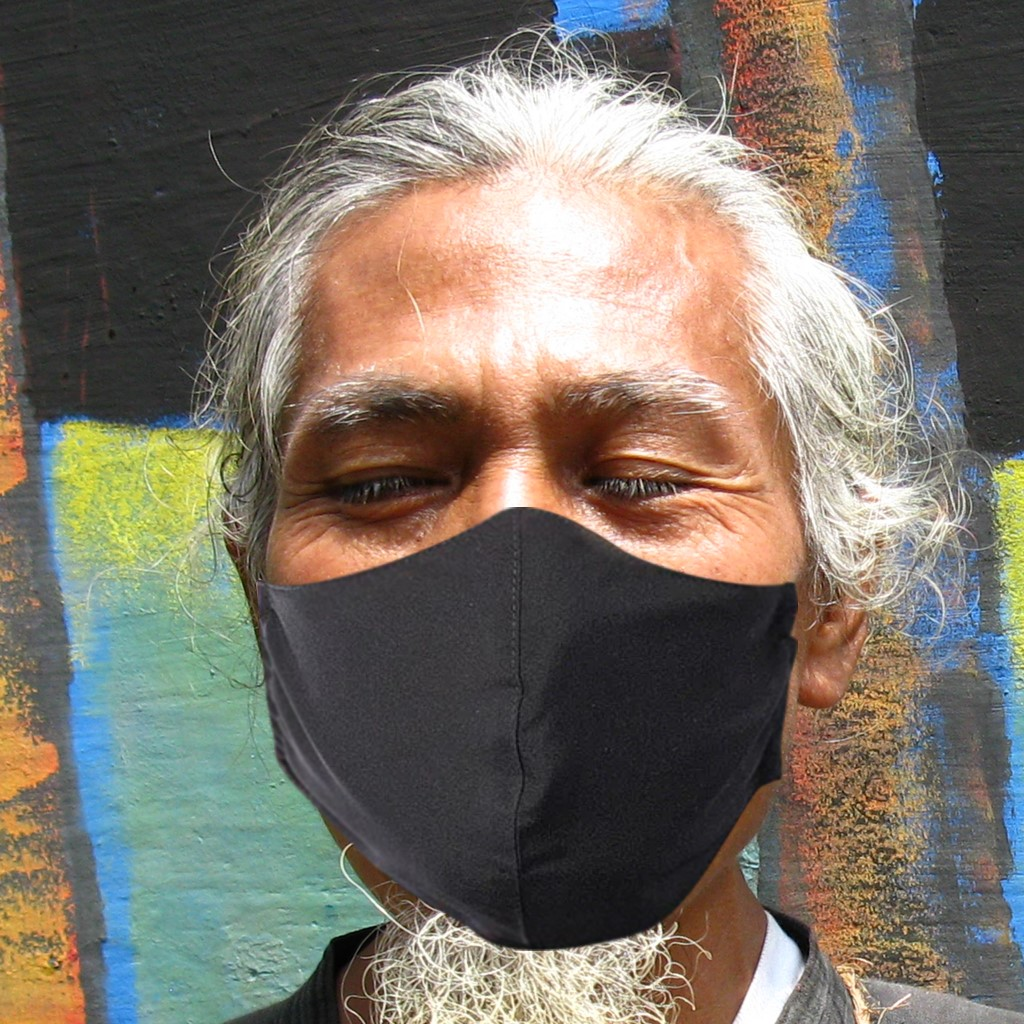con_mascara: (261, 155, 819, 995)
